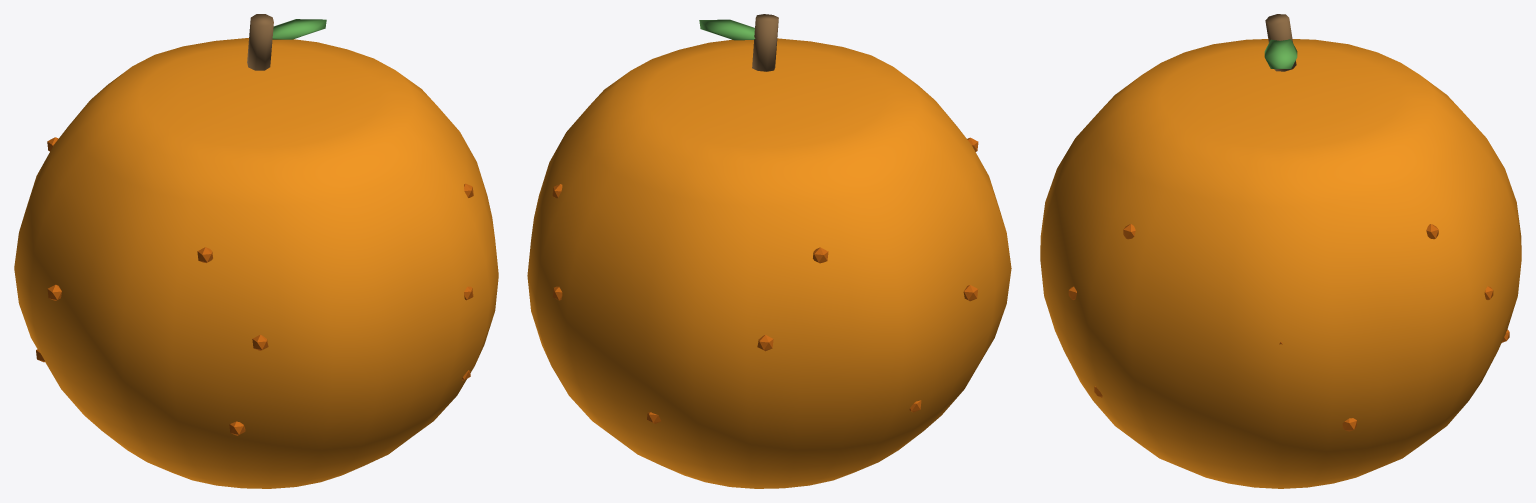
Rendered from orange.glb.
3 views of the same model, side by side, from view 1: azimuth 30°, elevation 25°; view 2: azimuth 150°, elevation 25°; view 3: azimuth 270°, elevation 25° (orthographic).
Parts seen in each view (by area): view 1: orange; view 2: orange; view 3: orange.
Boxes of the visible parts, x1,y1,x2,y2 form: orange: [14, 14, 498, 488]; orange: [527, 14, 1011, 488]; orange: [1040, 14, 1521, 488].
Size of the model in its own units: 0.9934 by 1 by 0.9738.
